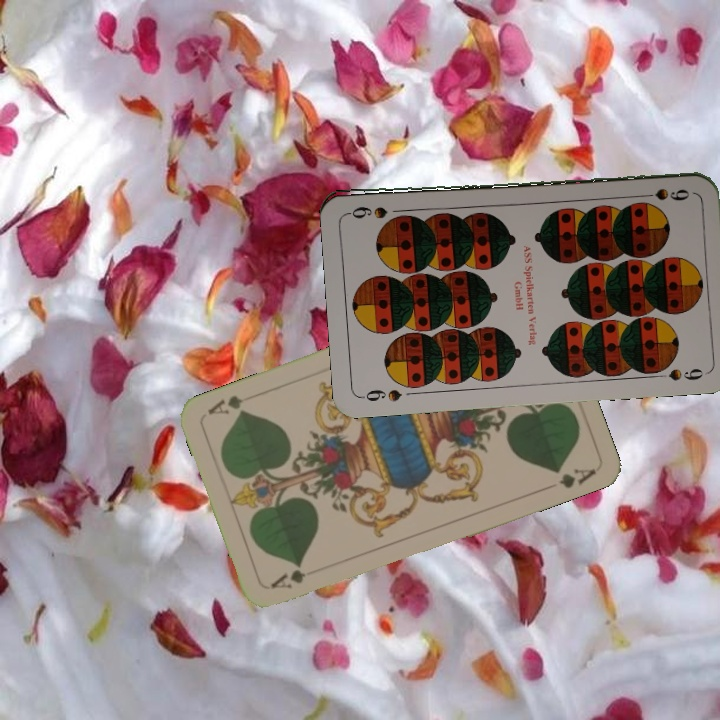GA: (266, 562, 308, 591)
S9: (634, 184, 692, 202), (357, 385, 404, 404)
